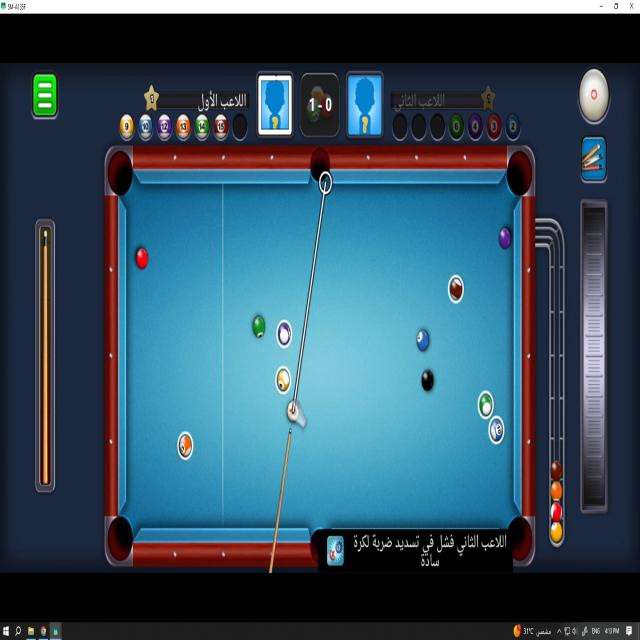object_ball: (489, 417, 504, 443), (178, 432, 192, 459), (277, 321, 292, 344), (449, 277, 463, 300), (479, 393, 492, 416), (277, 368, 290, 391), (253, 316, 265, 337), (136, 249, 148, 269), (417, 330, 428, 351), (422, 370, 433, 391), (499, 229, 510, 249)
white_cue_ball: (287, 400, 300, 422)
